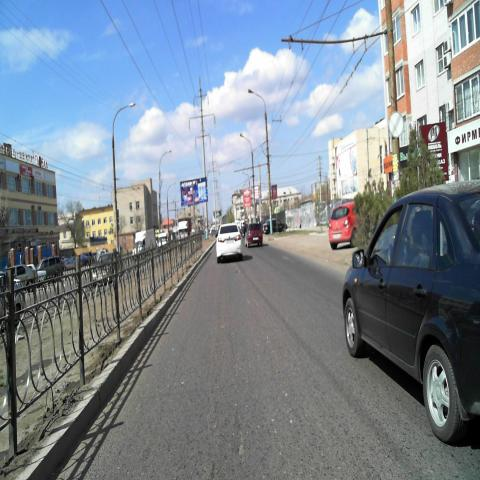3_31: (388, 110, 404, 138)
